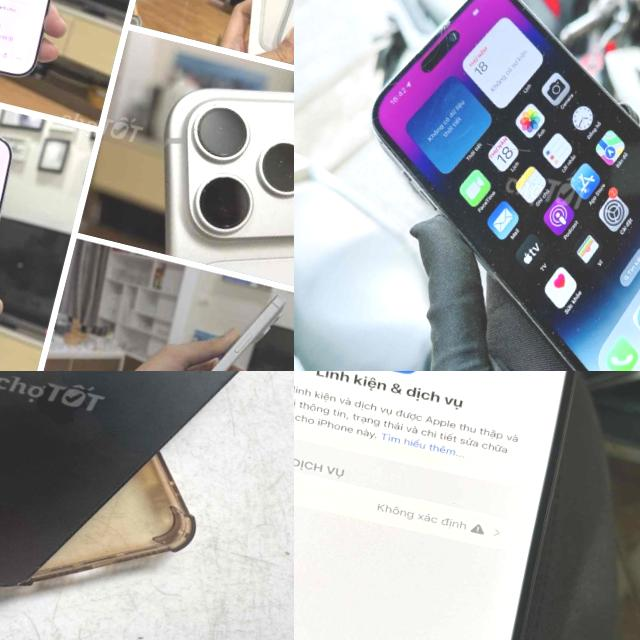gen_12_13: (0, 371, 266, 633)
gen_14: (312, 0, 640, 371), (294, 371, 618, 640)
gen_17: (129, 41, 294, 305)
physical_damage: (470, 114, 552, 170), (424, 8, 476, 56), (625, 334, 640, 371)
